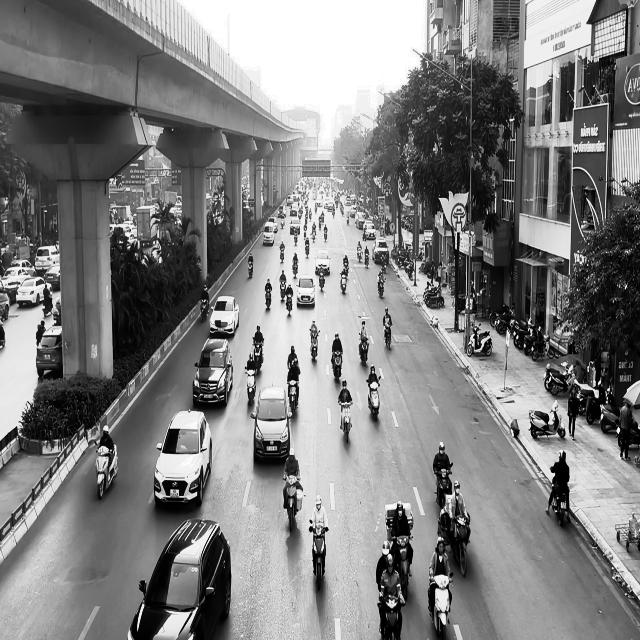car: (127, 518, 232, 640), (154, 409, 212, 507), (251, 385, 291, 462), (192, 337, 234, 408), (36, 325, 63, 378), (210, 295, 240, 336), (296, 274, 316, 307), (315, 250, 330, 274)
motorbike: (428, 571, 454, 639), (529, 399, 566, 440), (94, 441, 119, 499), (378, 590, 406, 640), (309, 522, 329, 590), (450, 514, 471, 576), (283, 475, 304, 532), (551, 479, 571, 527), (434, 462, 453, 508), (467, 323, 492, 356), (366, 375, 383, 421), (339, 398, 353, 442), (245, 366, 257, 404), (288, 378, 300, 416), (253, 340, 264, 374), (358, 334, 370, 364), (332, 350, 342, 382), (310, 329, 320, 360), (383, 321, 392, 349), (200, 298, 210, 321), (340, 270, 348, 293), (286, 293, 294, 316), (378, 274, 385, 298), (292, 258, 299, 277), (266, 286, 272, 308), (319, 269, 325, 291), (248, 258, 254, 278), (364, 251, 370, 268), (280, 246, 285, 263)
